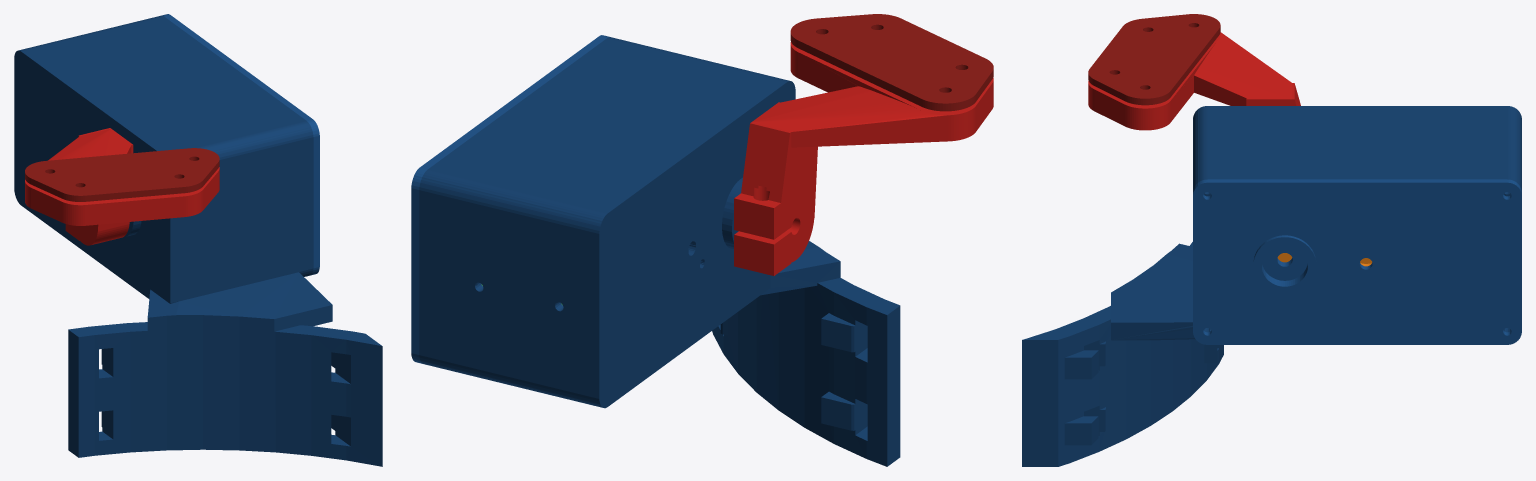
The model's file is GP1_V4_2_assieme_SketchUp.dae.
The picture shows the model from 3 angles, left to right: view 1: azimuth 30°, elevation 25°; view 2: azimuth 150°, elevation 25°; view 3: azimuth 270°, elevation 25°; orthographic projection. The views are drawn at different scales.
Parts seen in each view (by area): view 1: housing, contropiastra, monobraccio, coperchio; view 2: housing, monobraccio, contropiastra, coperchio; view 3: coperchio, housing, contropiastra, monobraccio.
Boxes of the visible parts, x1,y1,x2,y2 form: housing: (14, 15, 382, 466); contropiastra: (25, 148, 219, 201); monobraccio: (25, 128, 219, 245); coperchio: (162, 14, 319, 275); housing: (419, 37, 900, 466); monobraccio: (734, 42, 993, 275); contropiastra: (790, 14, 993, 111); coperchio: (411, 35, 609, 363); coperchio: (1193, 179, 1521, 344); housing: (1022, 106, 1521, 466); contropiastra: (1088, 14, 1220, 105); monobraccio: (1088, 32, 1300, 130).
Bounding box in the file's own units: 148 × 207 × 143.
